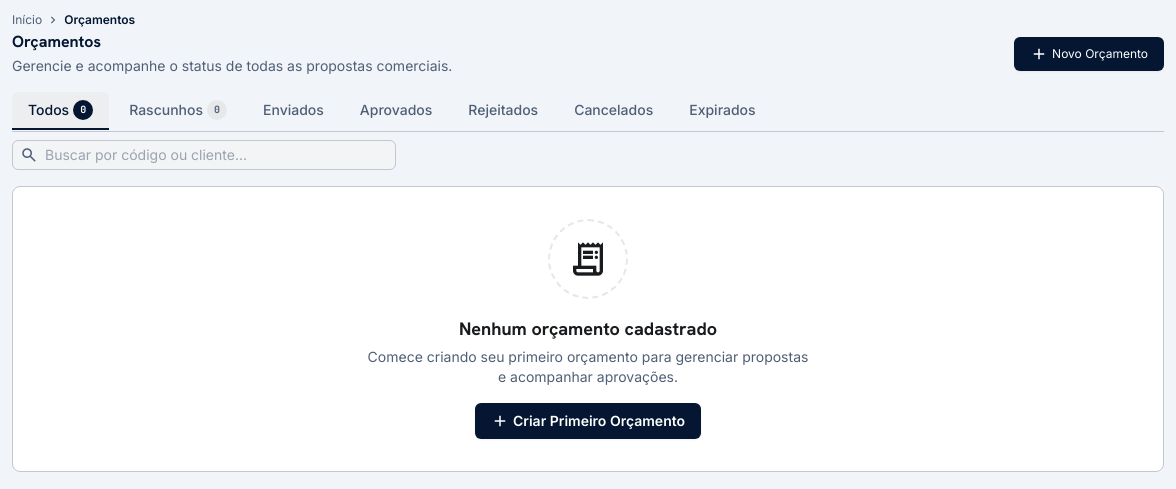
Scenario: BudgetsView Component [Joseph Nichollas] › deve renderizar estado no-results quando filtrando e nenhum resultado for retornado
This screenshot has width=1176, height=489.
Note: Clica em Rascunhos para ativar o filtro
Click the text "Rascunhos" at (166,110), box top-left (129, 100), bottom-right (203, 120)
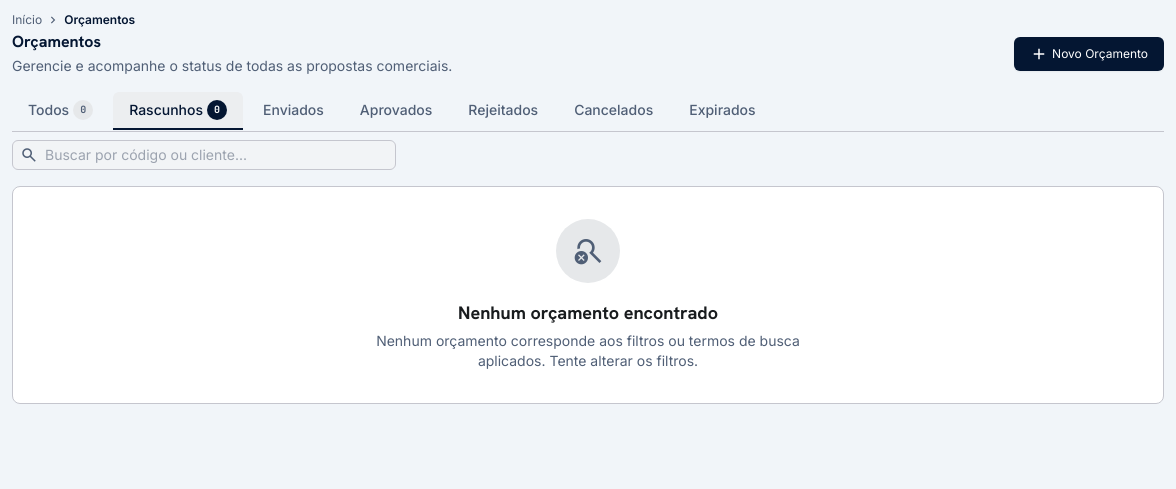
Expected: the heading "Nenhum orçamento encontrado" is shown, top-left (458, 301), bottom-right (718, 324)
